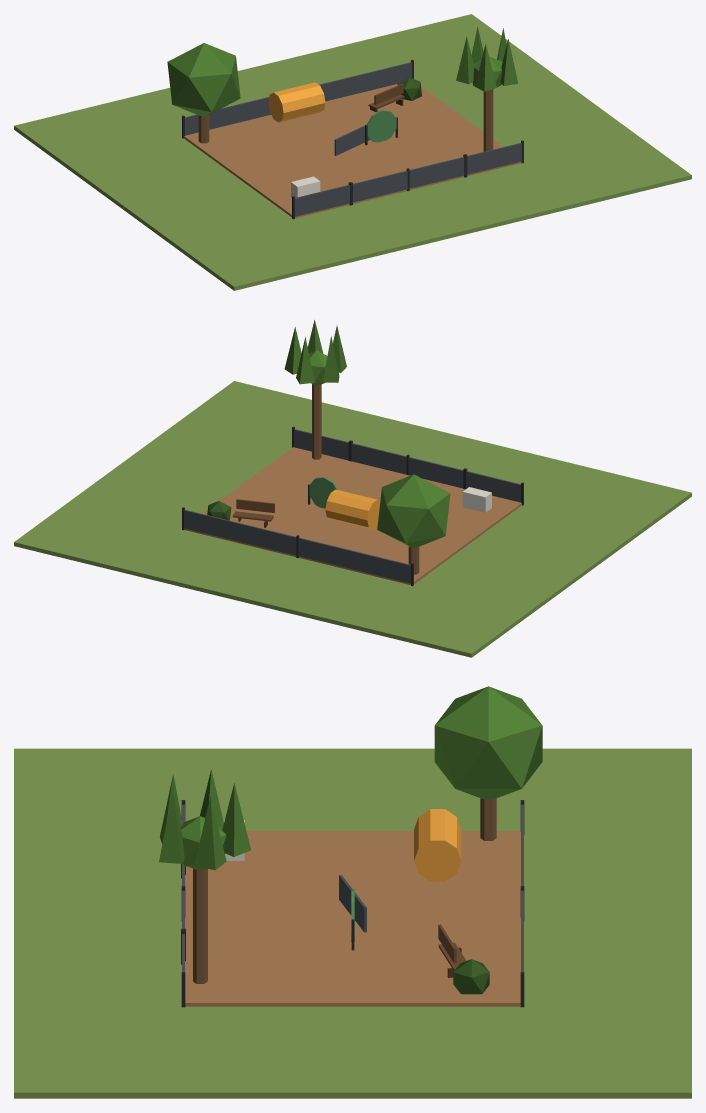
The model's file is landscape.park-dog.glb.
The picture shows the model from 3 angles, top to bottom: view 1: azimuth 30°, elevation 25°; view 2: azimuth 150°, elevation 25°; view 3: azimuth 270°, elevation 25°; orthographic projection. The views are drawn at different scales.
Visible parts, largest first — view 1: landscape.park-dog; view 2: landscape.park-dog; view 3: landscape.park-dog.
Part boxes in pixels (x1,y1,x2,y2): landscape.park-dog: (14,14,691,290); landscape.park-dog: (14,320,691,657); landscape.park-dog: (14,686,691,1098).
Size of the model in its own units: 24 by 6.8 by 20.
